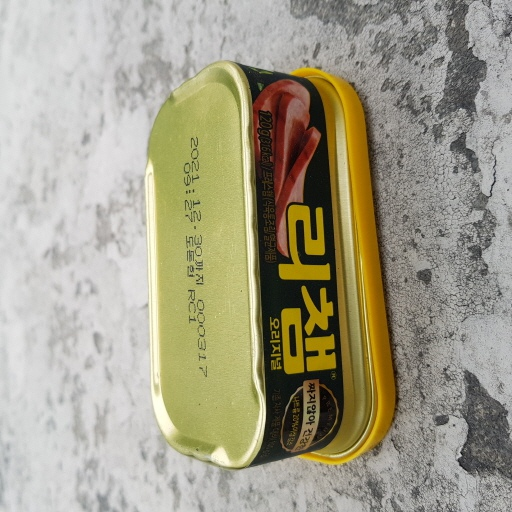Metal_2: (145, 57, 396, 470)
